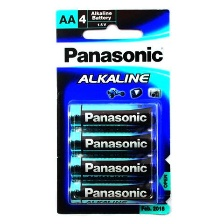battery: (66, 127, 156, 158), (66, 102, 157, 132), (65, 153, 156, 181), (67, 181, 158, 206)
book: (51, 6, 173, 216)
